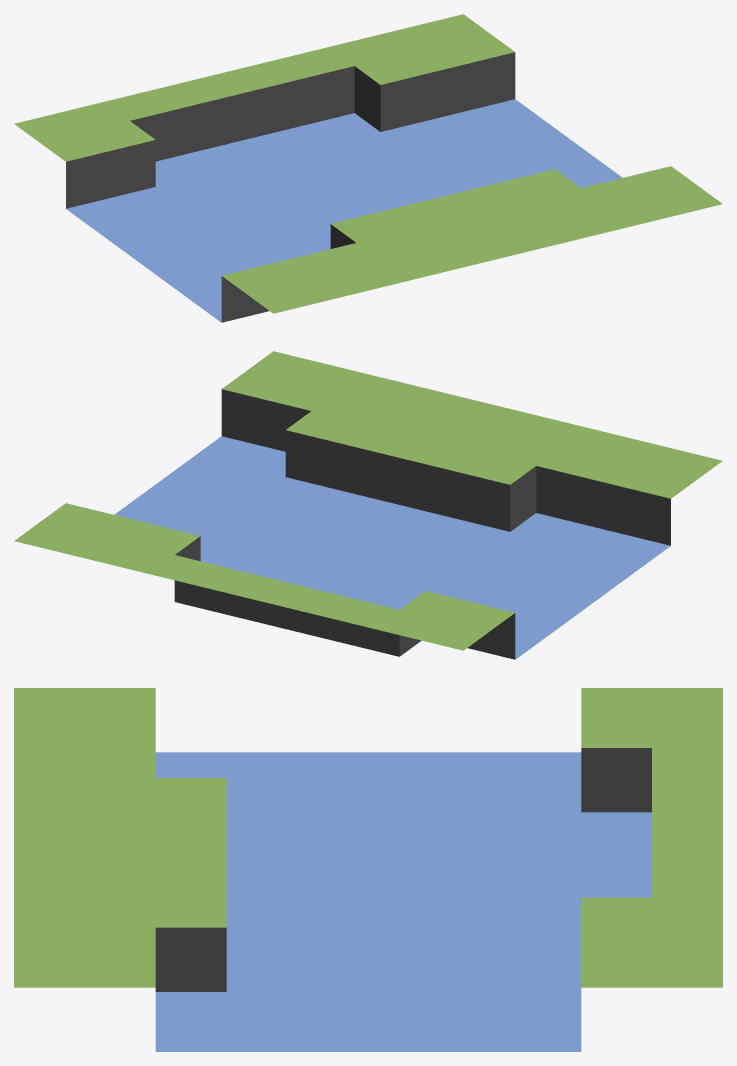
The model's file is terrain_river_3.fbx.
3 renders of one model, top to bottom at view 1: azimuth 30°, elevation 25°; view 2: azimuth 150°, elevation 25°; view 3: azimuth 270°, elevation 25°, orthographic. The views are drawn at different scales.
Visible parts, largest first — view 1: Grid.038; view 2: Grid.038; view 3: Grid.038.
Part boxes in pixels (x1,y1,x2,y2): Grid.038: (14,14,722,322); Grid.038: (14,351,722,659); Grid.038: (14,688,722,1051).
Size of the model in its own units: 200 by 20 by 200.
